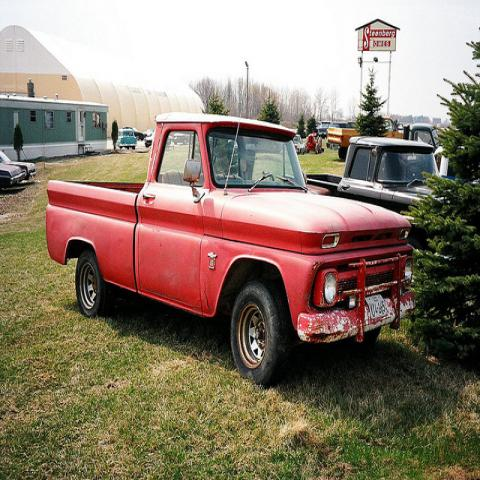car: (326, 117, 403, 160), (432, 145, 479, 187), (0, 150, 37, 178), (0, 162, 27, 188), (410, 123, 439, 146), (116, 129, 137, 150), (293, 134, 305, 155), (143, 128, 154, 147)
truck: (46, 111, 417, 385), (306, 132, 441, 212), (325, 115, 404, 161)
